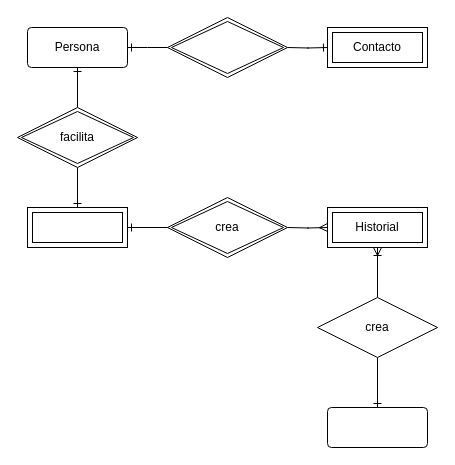
The diagram is 455 pixels wide and 465 high, and some of its shapes have lost their labels. Here are the shapes that lost their labels. From the top down, the centre of each, then its label:
[227,47]: tiene
[77,227]: Datos Personales
[377,427]: Empleador
